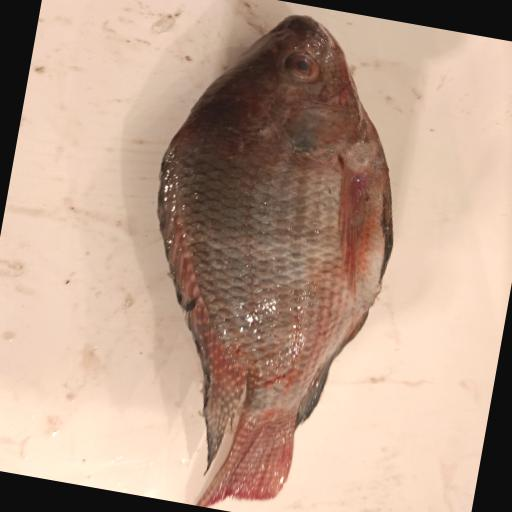Tilapia: (102, 0, 429, 512)
